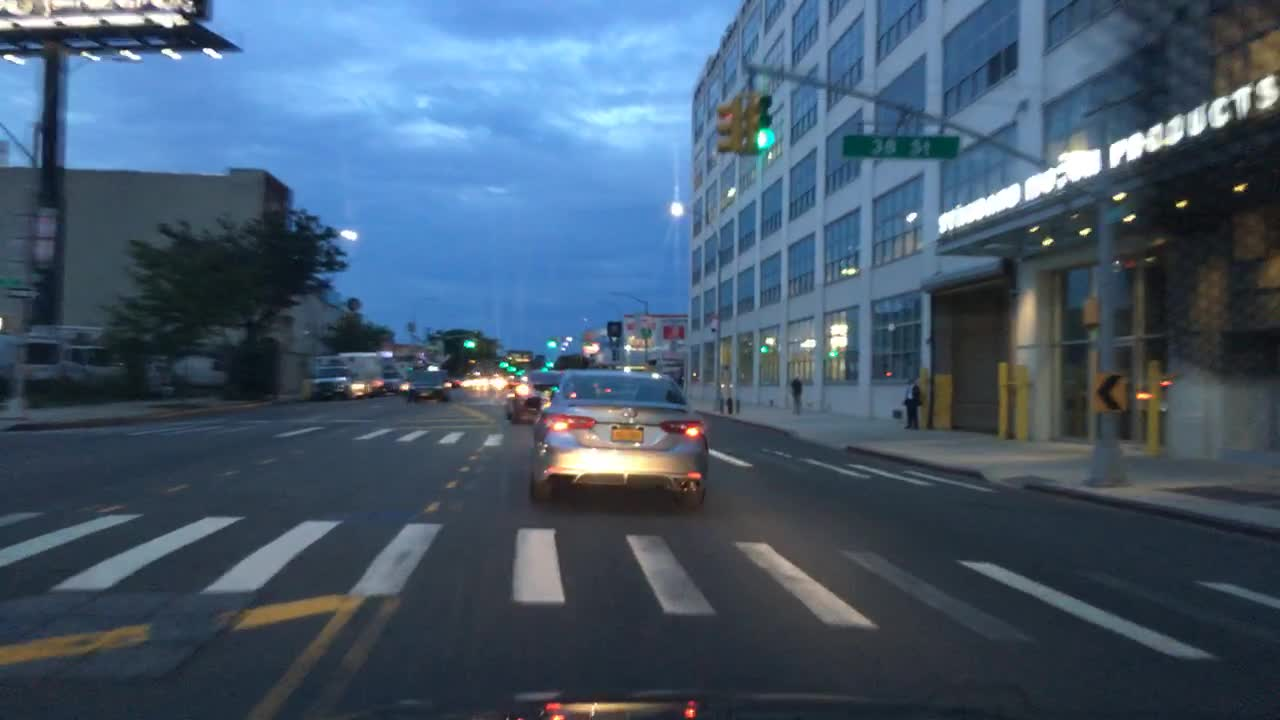car: (526, 364, 710, 512), (0, 334, 65, 389), (63, 344, 132, 389), (504, 367, 559, 421), (120, 352, 176, 387), (171, 354, 224, 387), (406, 371, 447, 402), (497, 372, 524, 391), (447, 377, 464, 389)
person: (903, 376, 920, 429), (716, 362, 731, 409), (733, 357, 743, 416), (790, 376, 803, 412)
traffic light: (753, 97, 773, 152), (717, 104, 735, 154), (464, 337, 477, 349), (544, 337, 558, 347)
traffic sign: (841, 135, 957, 157), (1093, 371, 1131, 411), (5, 288, 41, 298), (0, 276, 30, 288), (622, 313, 637, 334), (607, 318, 622, 339), (345, 295, 364, 310), (639, 313, 651, 329), (634, 329, 652, 339)
truck: (313, 350, 382, 402), (380, 349, 419, 392)
